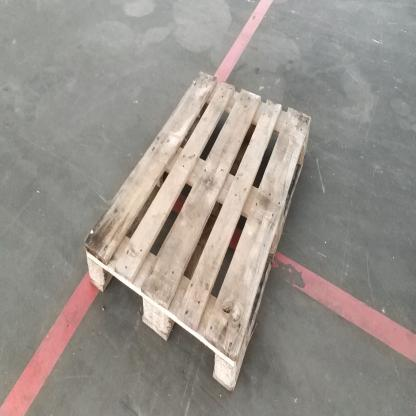BoxFace: (82, 66, 314, 401)
